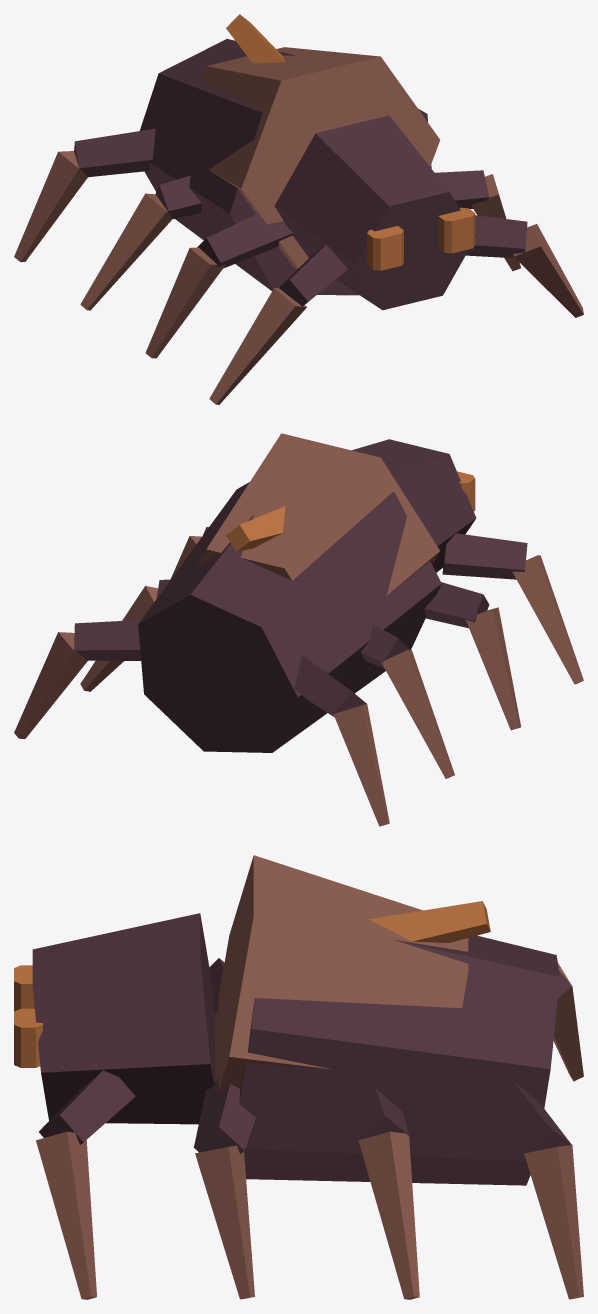
File: alien.glb
The picture shows the model from 3 angles, top to bottom: view 1: azimuth 30°, elevation 25°; view 2: azimuth 150°, elevation 25°; view 3: azimuth 270°, elevation 25°; orthographic projection. The views are drawn at different scales.
Visible parts, largest first — view 1: alien; view 2: alien; view 3: alien.
Part boxes in pixels (<box>): alien: <box>14,14,583,404</box>; alien: <box>14,433,583,826</box>; alien: <box>14,855,583,1299</box>.
Bounding box in the file's own units: 0.8611 × 0.5372 × 0.9079.
